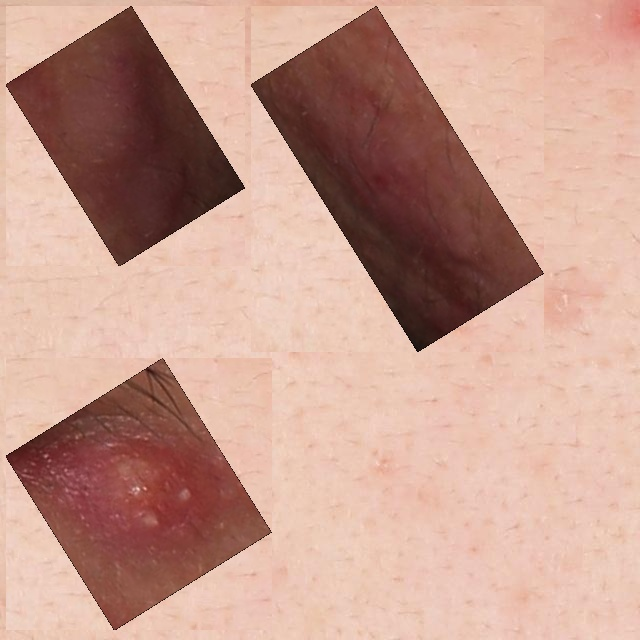nodule: (262, 17, 532, 341), (17, 369, 260, 619), (17, 17, 234, 255)
